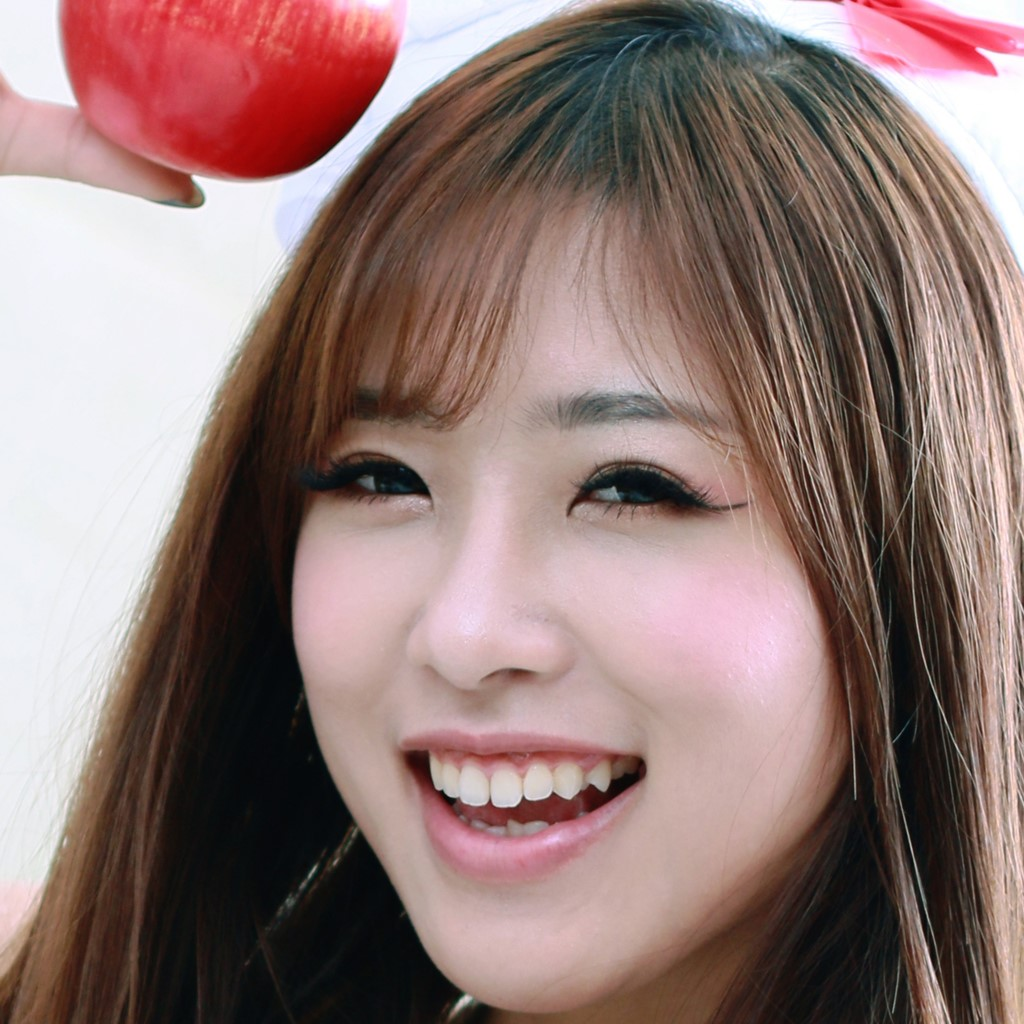sin_mascara: (290, 184, 866, 999)
